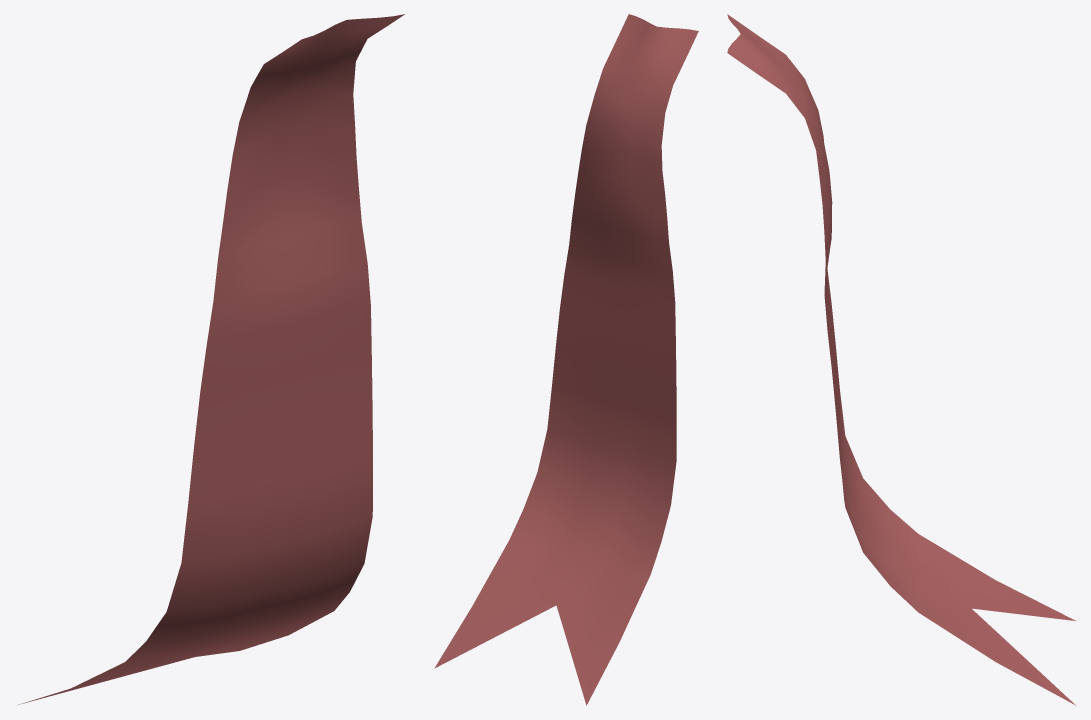
The model's file is Model_Tissu.fbx.
3 views of the same model, side by side, from view 1: azimuth 30°, elevation 25°; view 2: azimuth 150°, elevation 25°; view 3: azimuth 270°, elevation 25° (orthographic). The views are drawn at different scales.
Visible parts, largest first — view 1: PlaneTissu; view 2: PlaneTissu; view 3: PlaneTissu.
Part boxes in pixels (x1,y1,x2,y2): PlaneTissu: (18, 14, 404, 704); PlaneTissu: (434, 14, 698, 705); PlaneTissu: (727, 14, 1076, 705).
Bounding box in the file's own units: 22.38 × 77.54 × 38.99.
